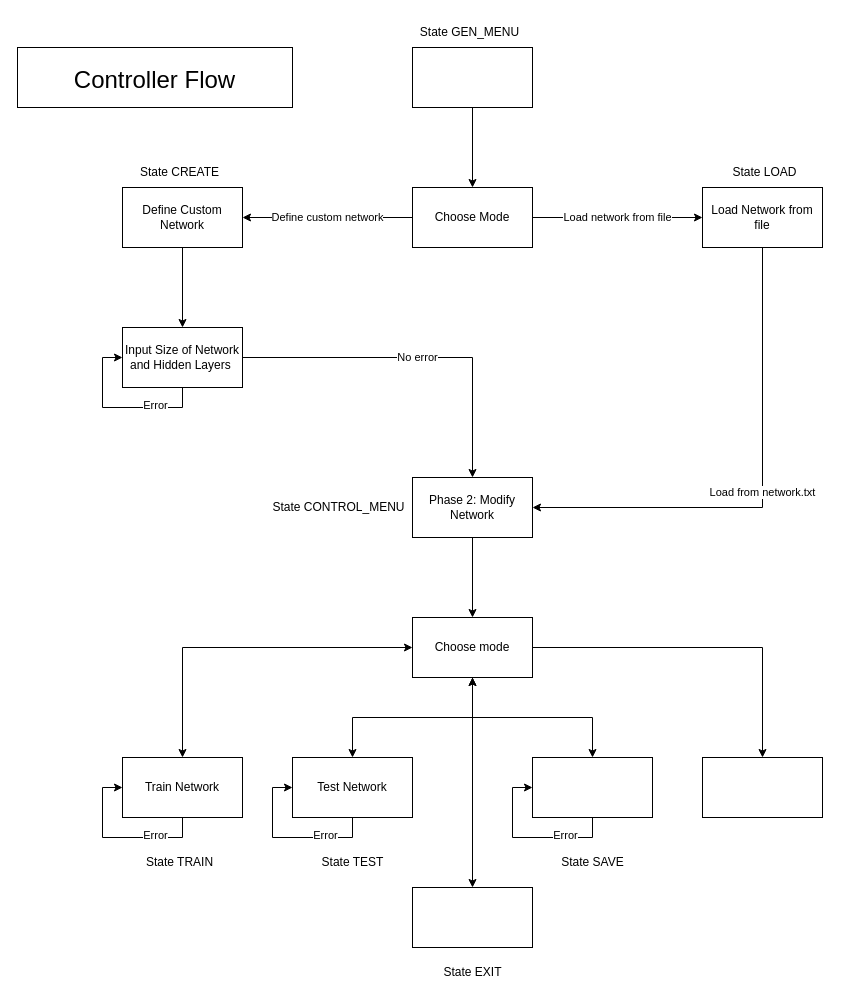
This 845x1004 diagram has some shape labels left out. The centre of each missing label's shape, as x and y in pixels:
"End" belongs at (x=472, y=917).
"Phase 1: Create Network" belongs at (x=472, y=77).
"Return to Phase 1" belongs at (x=762, y=787).
"Save Network" belongs at (x=592, y=787).
